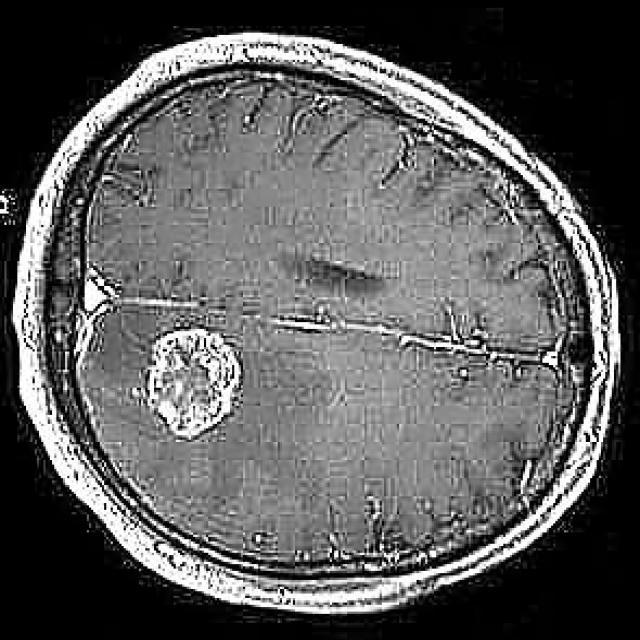tumor: (141, 326, 247, 441)
